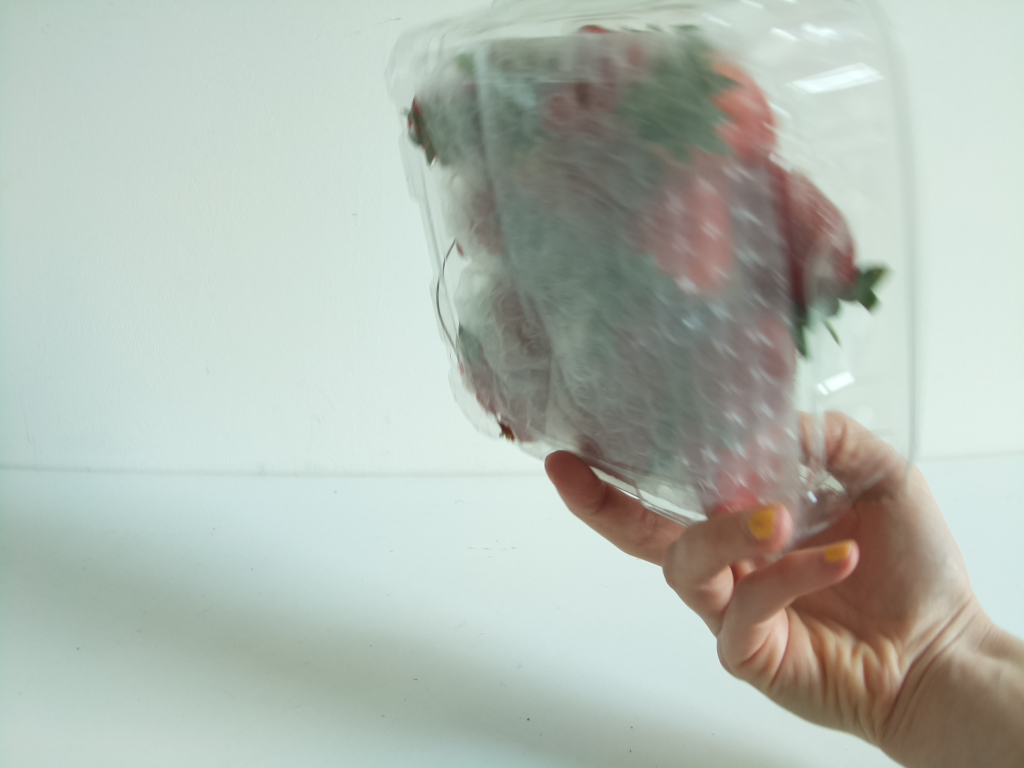soft-fruit: (387, 1, 917, 545)
